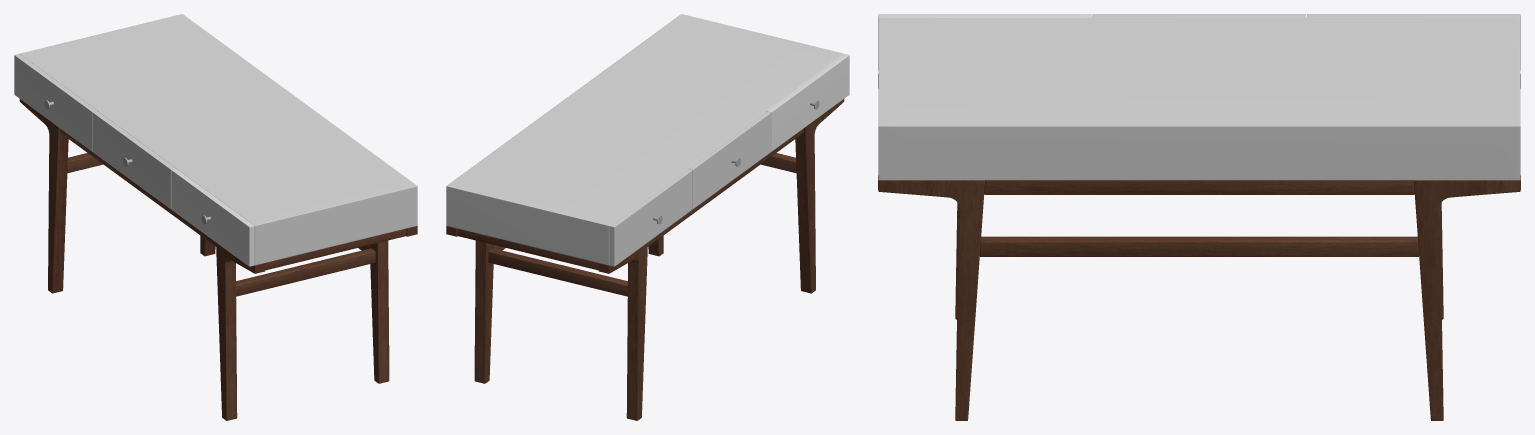
The model's file is Desk.gltf.
3 renders of one model, left to right at view 1: azimuth 30°, elevation 25°; view 2: azimuth 150°, elevation 25°; view 3: azimuth 270°, elevation 25°, orthographic. The views are drawn at different scales.
Visible parts, largest first — view 1: Cube, Cube.002, Cube.003, Cube.004, BACAK_FIN, BACAK_FIN.003, BACAK_FIN.002, Cube.094, Cube.096, Cube.091, Cube.097; view 2: Cube, Cube.004, Cube.003, Cube.002, BACAK_FIN.003, BACAK_FIN, BACAK_FIN.001, Cube.097, Cube.098, Cube.091, Cube.094; view 3: Cube, Cube.093, Cube.092, BACAK_FIN.001, BACAK_FIN.002, Cube.002, Cube.004, Cube.003.
Part boxes in pixels (<box>): Cube: <box>20,14,417,265</box>; Cube.002: <box>171,168,254,266</box>; Cube.003: <box>92,111,175,208</box>; Cube.004: <box>14,54,97,151</box>; BACAK_FIN: <box>216,242,265,420</box>; BACAK_FIN.003: <box>19,99,68,293</box>; BACAK_FIN.002: <box>369,226,417,383</box>; Cube.094: <box>236,248,375,296</box>; Cube.096: <box>265,228,406,270</box>; Cube.091: <box>60,128,215,246</box>; Cube.097: <box>67,153,102,173</box>; Cube: <box>446,14,843,265</box>; Cube.004: <box>609,168,692,266</box>; Cube.003: <box>688,111,771,208</box>; Cube.002: <box>766,54,849,151</box>; BACAK_FIN.003: <box>598,242,647,420</box>; BACAK_FIN: <box>795,99,844,293</box>; BACAK_FIN.001: <box>446,226,494,383</box>; Cube.097: <box>488,248,627,296</box>; Cube.098: <box>457,228,598,270</box>; Cube.091: <box>648,128,803,246</box>; Cube.094: <box>761,153,796,173</box>; Cube: <box>878,17,1520,180</box>; Cube.093: <box>980,236,1418,256</box>; Cube.092: <box>984,180,1414,194</box>; BACAK_FIN.001: <box>1413,175,1520,420</box>; BACAK_FIN.002: <box>878,175,985,420</box>; Cube.002: <box>878,14,1091,69</box>; Cube.004: <box>1307,14,1520,69</box>; Cube.003: <box>1092,14,1306,17</box>.
Size of the model in its own units: 0.6442 by 0.76 by 1.5.
3 materials, 1 textured.
